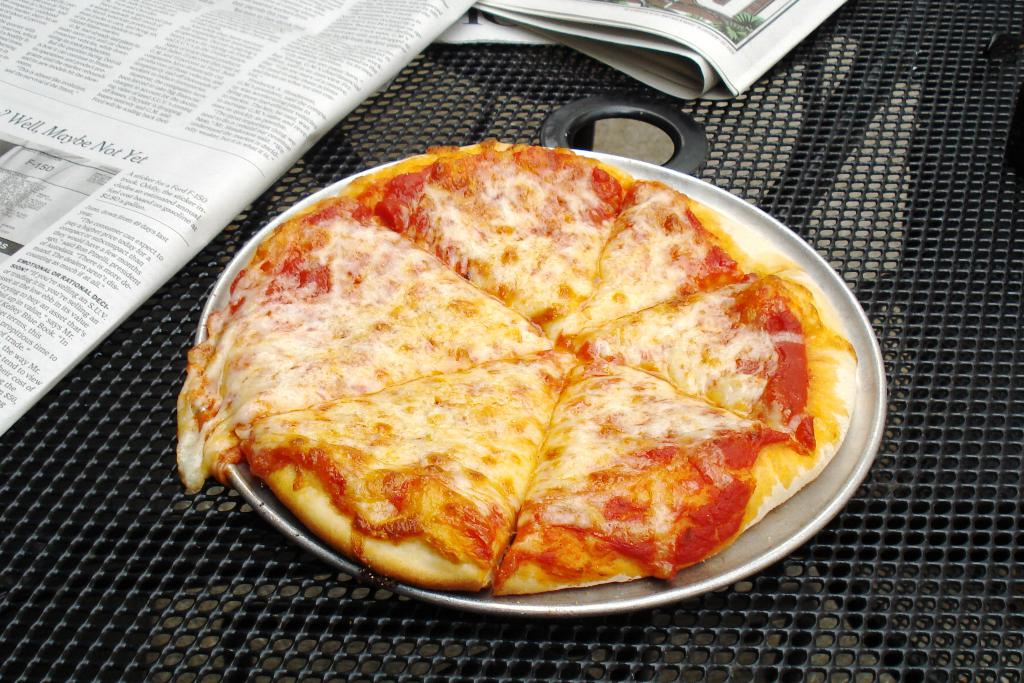Pizza: (173, 152, 862, 628)
